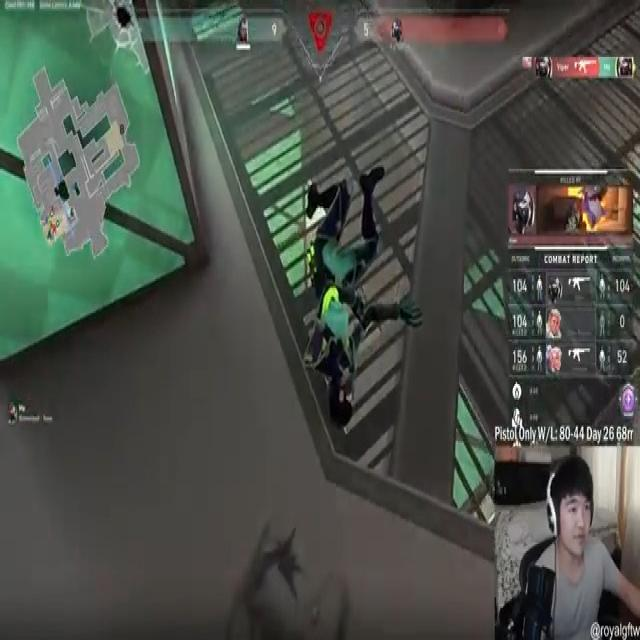ally: (302, 176, 387, 434)
